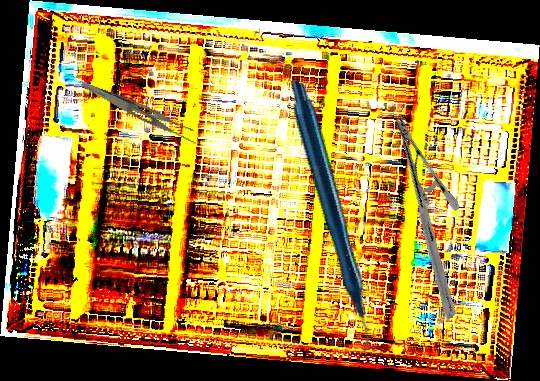Dressing Forceps: (75, 80, 203, 147)
Handpiece: (208, 79, 449, 357)
Needle Holder: (322, 114, 528, 322)
